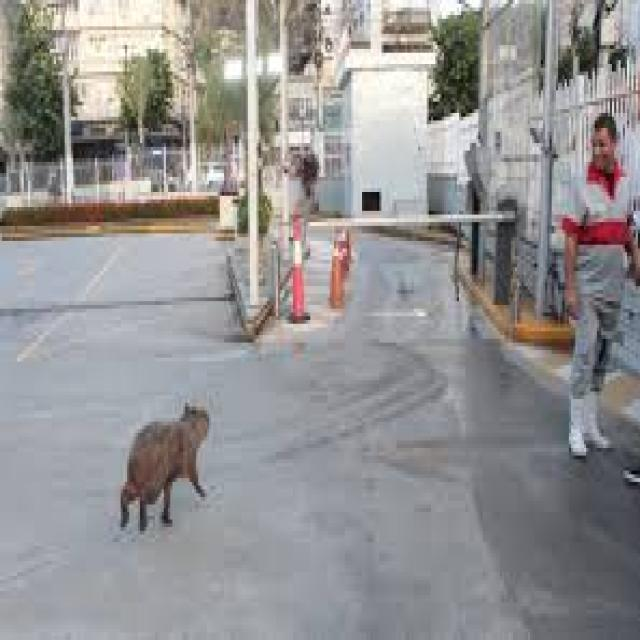capy: (116, 397, 213, 538)
